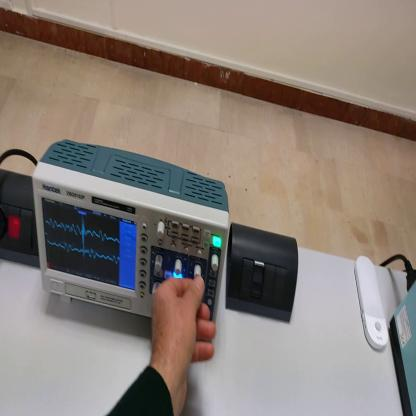hand: (150, 274, 215, 415)
oscilloscope: (34, 141, 232, 327)
socket: (1, 167, 40, 268)
welder station: (392, 278, 416, 415)
